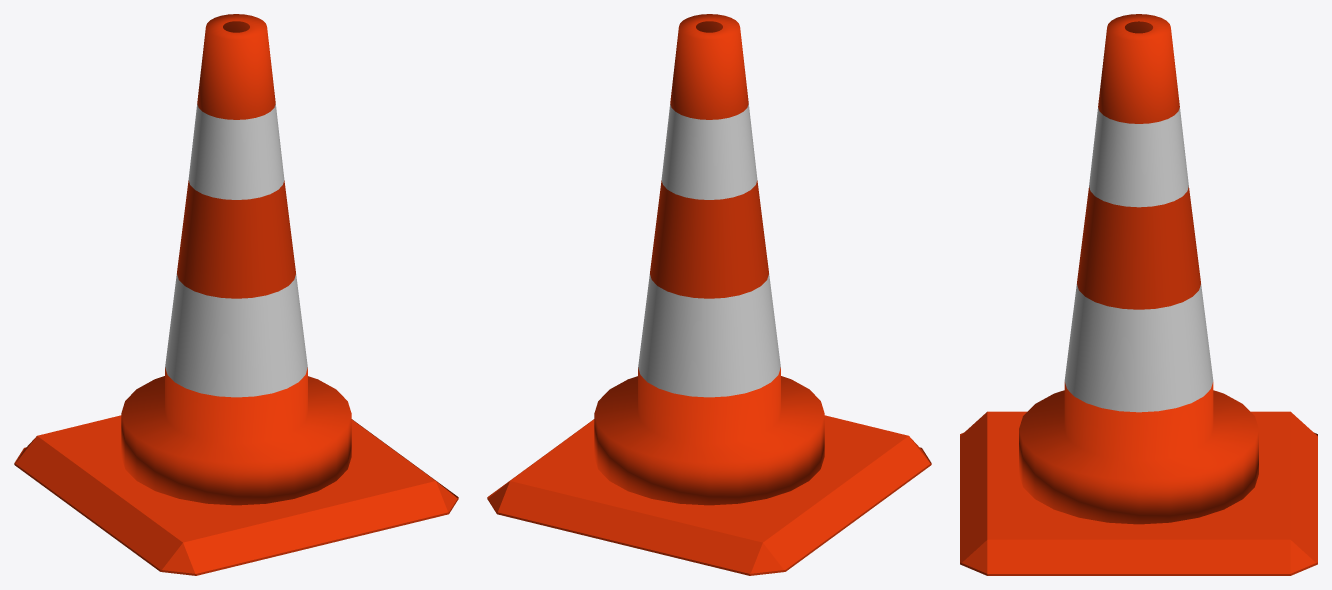
File: plot.fbx
3 renders of one model, left to right at view 1: azimuth 30°, elevation 25°; view 2: azimuth 150°, elevation 25°; view 3: azimuth 270°, elevation 25°, orthographic. The views are drawn at different scales.
Parts seen in each view (by area): view 1: Plane, Plane.001, Plane.002; view 2: Plane, Plane.001, Plane.002; view 3: Plane, Plane.001, Plane.002.
Boxes of the visible parts, x1,y1,x2,y2 form: Plane: (14, 14, 458, 575); Plane.001: (165, 273, 307, 397); Plane.002: (188, 104, 284, 199); Plane: (487, 14, 931, 575); Plane.001: (638, 273, 780, 397); Plane.002: (661, 104, 757, 199); Plane: (960, 14, 1317, 575); Plane.001: (1064, 284, 1213, 412); Plane.002: (1089, 107, 1188, 207).
Size of the model in its own units: 200 by 292 by 200.
